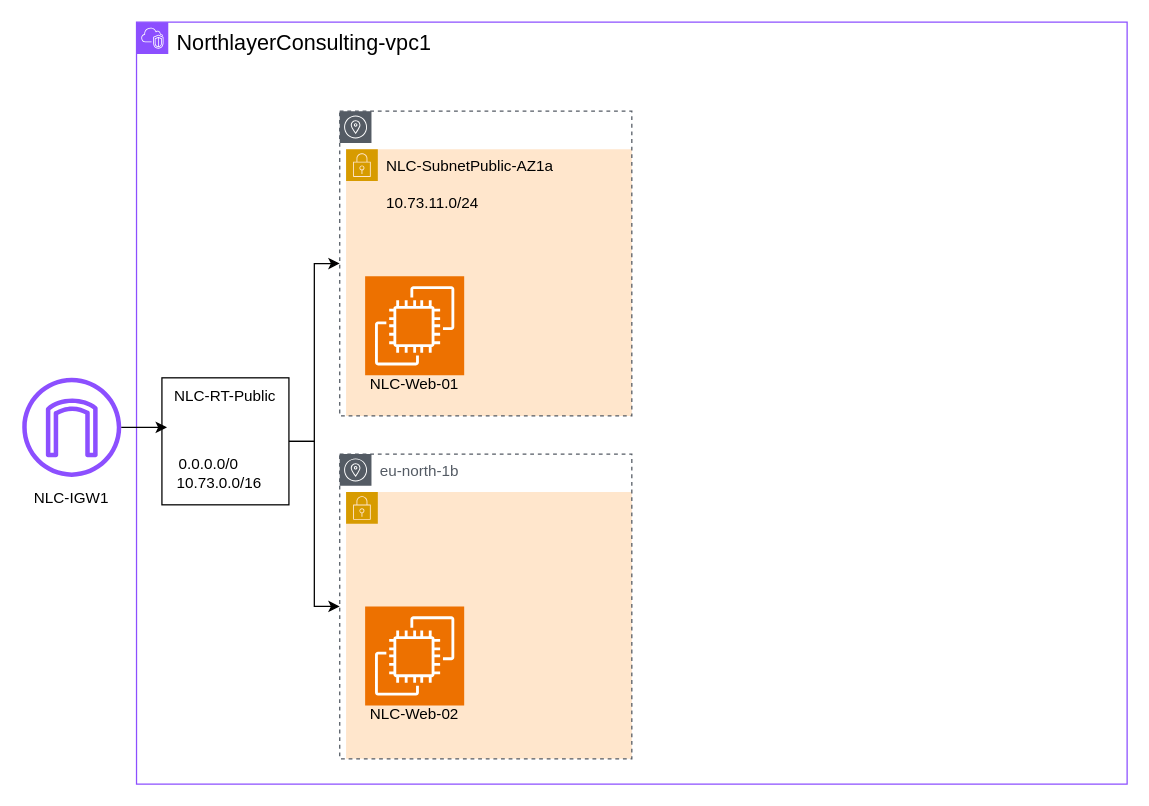
Some shapes in this 1149 by 806 pixel diagram are drawn without their labels. Each missing label, with the box of its shape:
eu-north-1a: (338, 110, 632, 416)
NLC-SubnetPublic-AZ1b 10.73.12.0/24: (345, 491, 632, 759)
